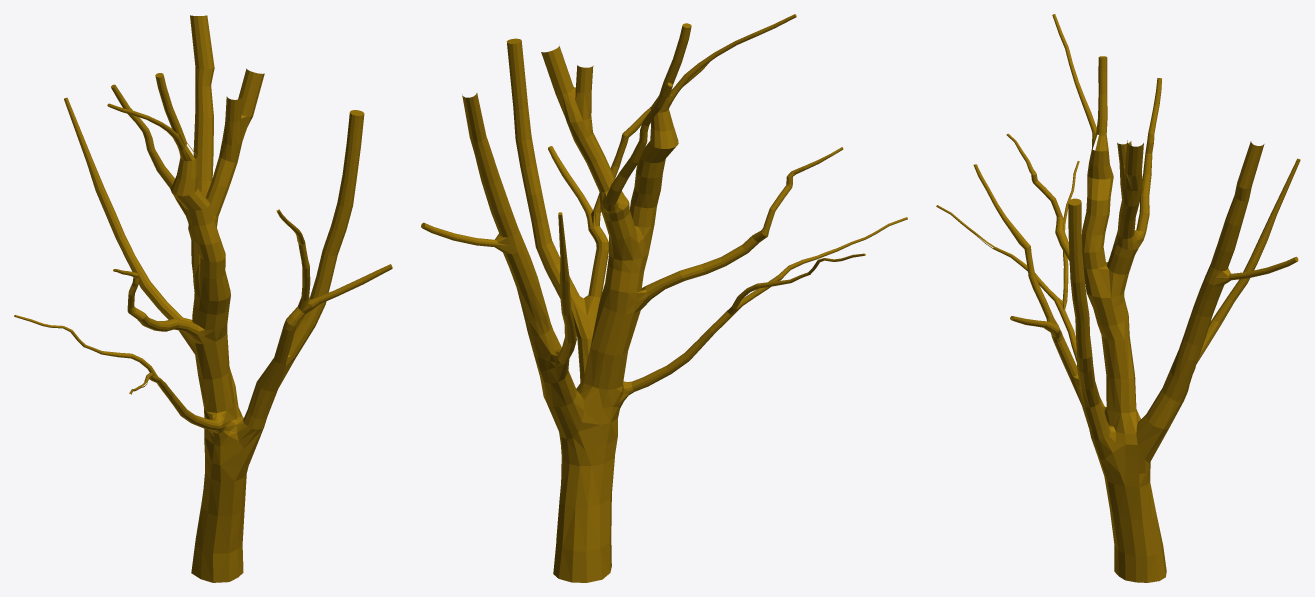
The model's file is 15_decorative.glb.
The picture shows the model from 3 angles, left to right: view 1: azimuth 30°, elevation 25°; view 2: azimuth 150°, elevation 25°; view 3: azimuth 270°, elevation 25°; orthographic projection. The views are drawn at different scales.
Parts seen in each view (by area): view 1: skp5946; view 2: skp5946; view 3: skp5946.
Part boxes in pixels (box(x1,y1,x2,y2)): skp5946: box(14, 15, 392, 582); skp5946: box(421, 14, 907, 582); skp5946: box(936, 14, 1300, 582).
Bounding box in the file's own units: 3.45 × 5.13 × 3.46.
